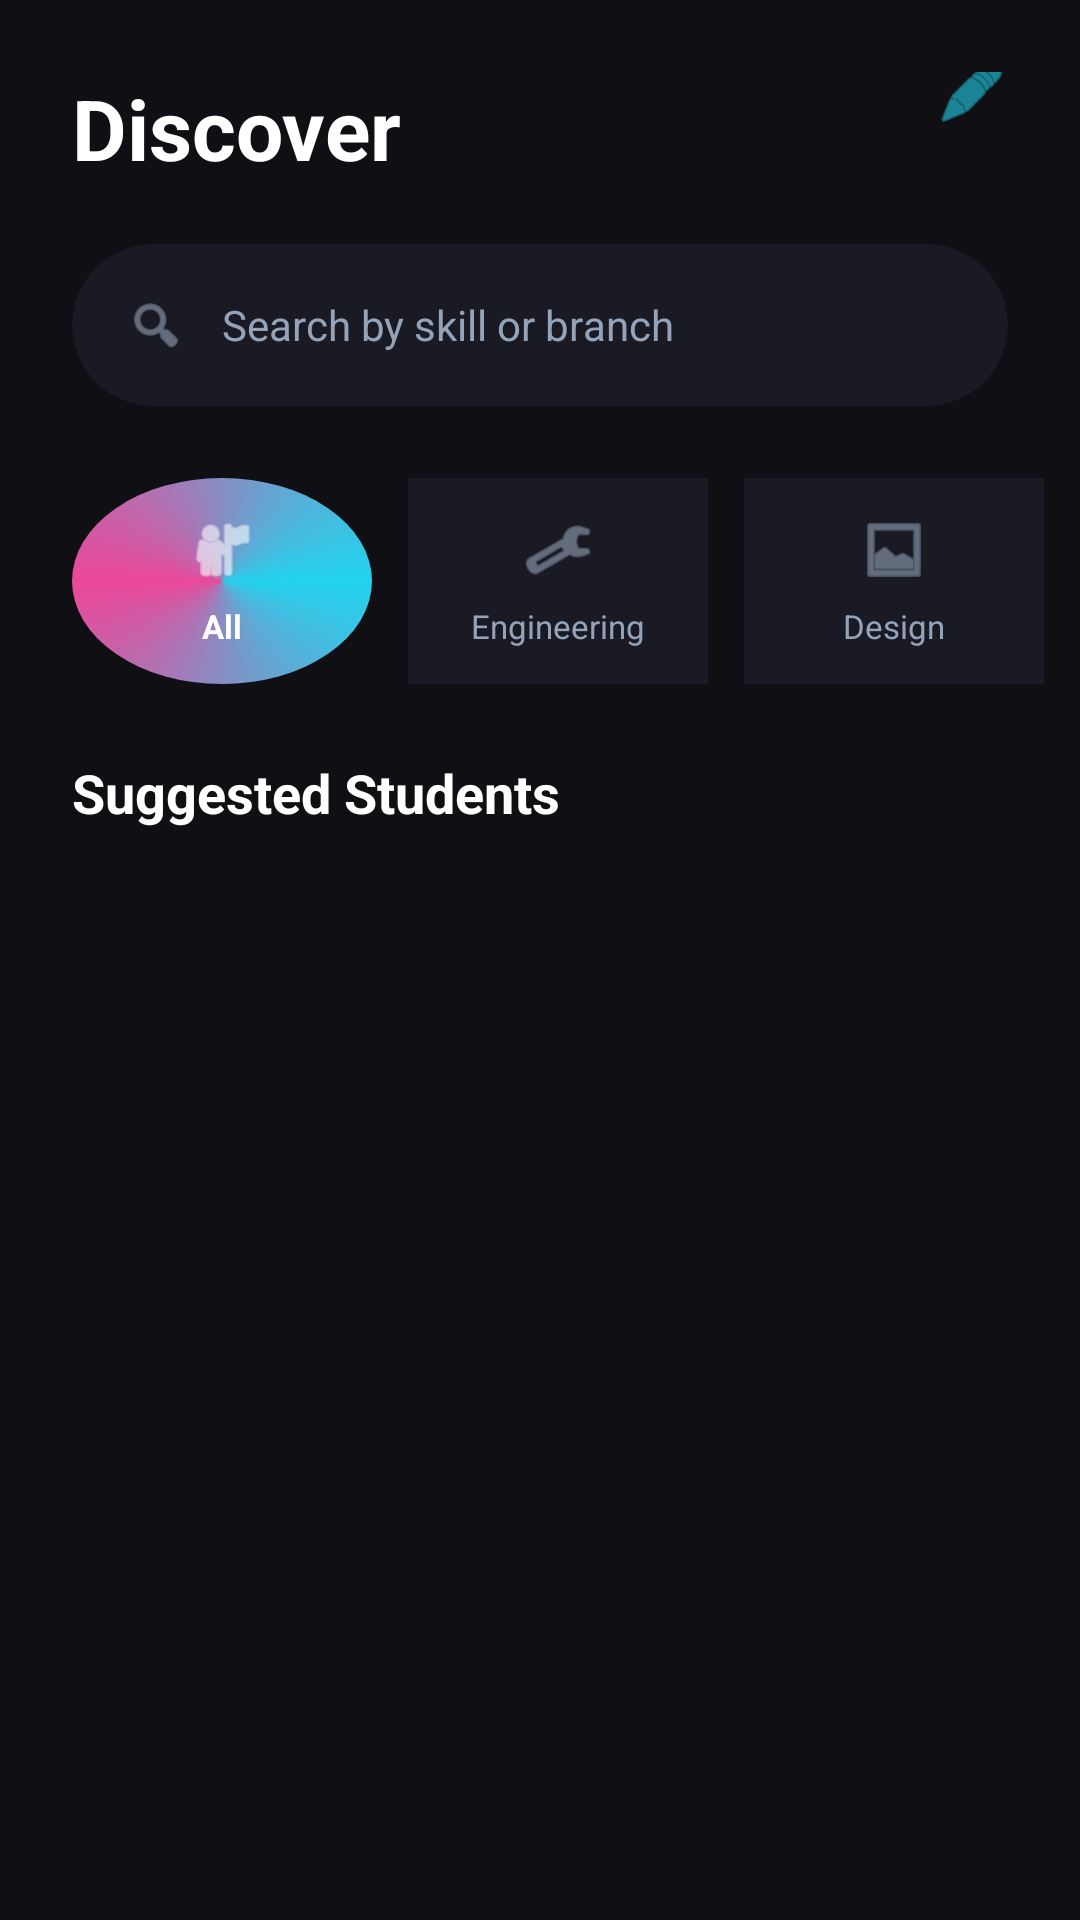

Icons on this 1080px x 1920px Android screen, each with the point to tap as (x=x, y=y):
edit: (x=971, y=97)
gallery: (x=894, y=550)
manage: (x=558, y=550)
myplaces: (x=222, y=550)
